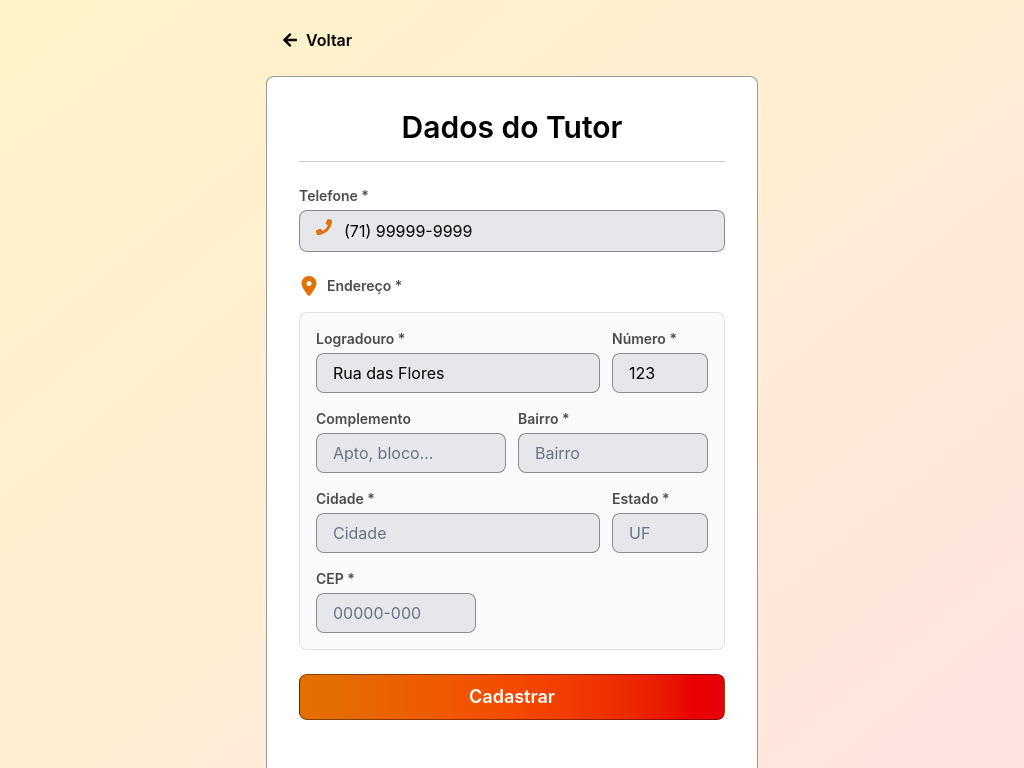
Test: shows error when neighborhood is empty
Click the button "Cadastrar" at [512, 697], box [299,674,725,720]
(page scrolled)
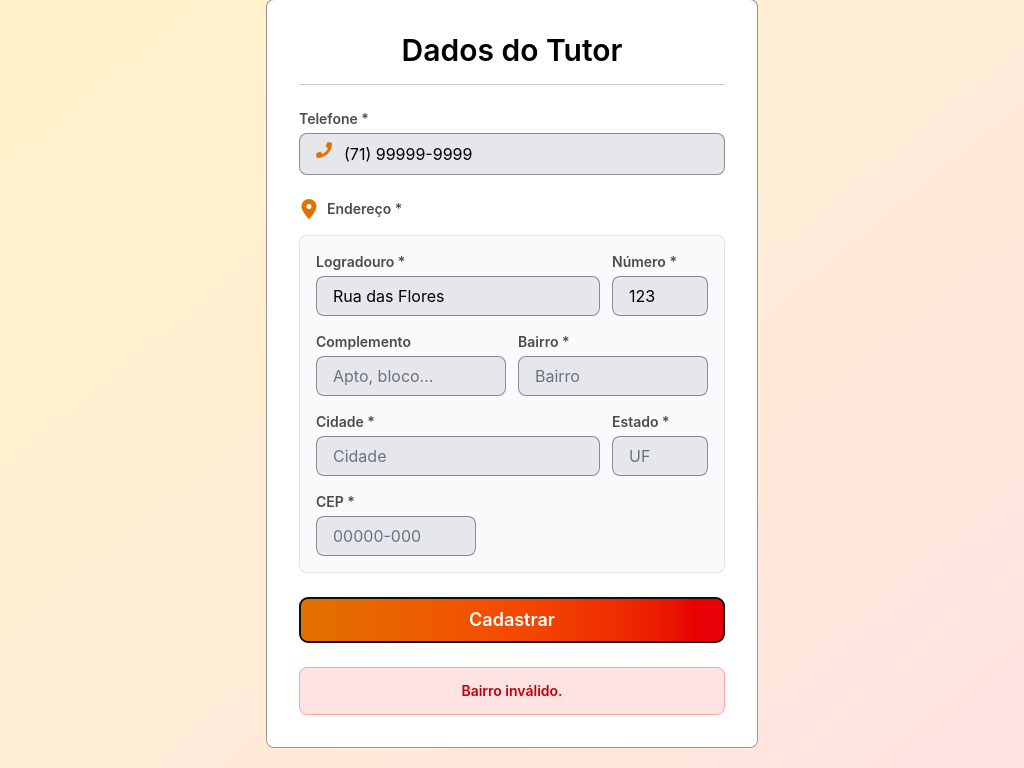
Result: the text "Bairro inválido." is shown at [299,667,725,715]
